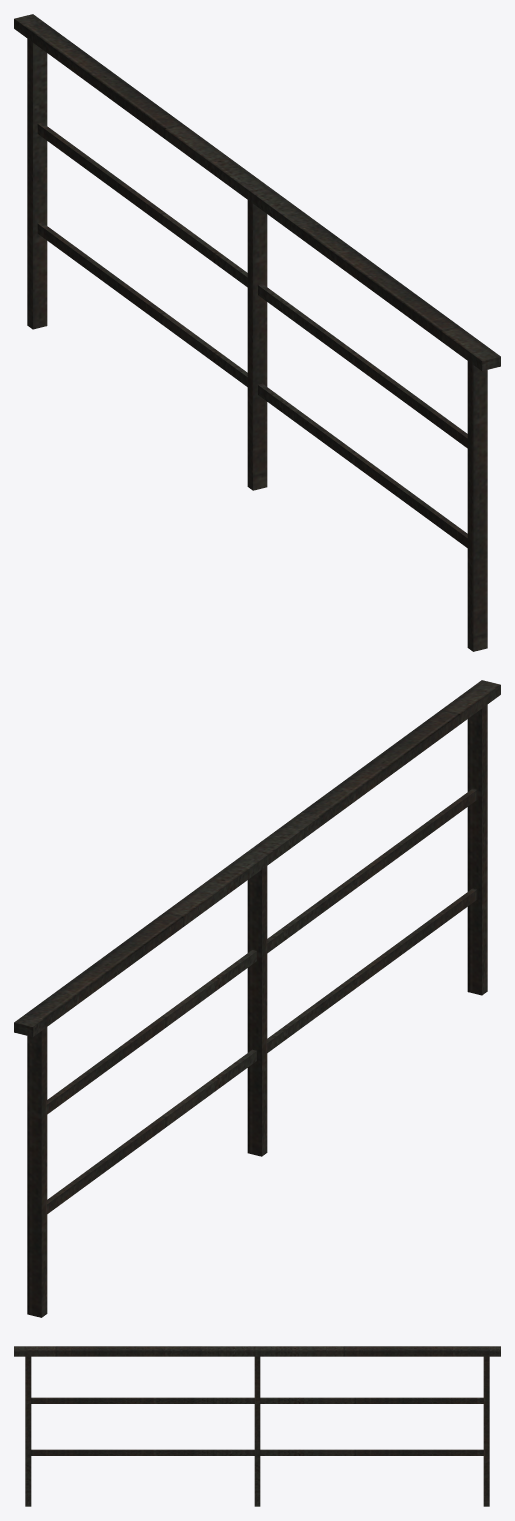
Rendered from platform_b_handrail_1.obj.
3 renders of one model, top to bottom at view 1: azimuth 30°, elevation 25°; view 2: azimuth 150°, elevation 25°; view 3: azimuth 270°, elevation 25°, orthographic. The views are drawn at different scales.
Visible parts, largest first — view 1: platform_b_handrail_1; view 2: platform_b_handrail_1; view 3: platform_b_handrail_1.
Boxes of the visible parts, left/top/right/bottom form: platform_b_handrail_1: left=14, top=14, right=500, bottom=651; platform_b_handrail_1: left=14, top=680, right=500, bottom=1317; platform_b_handrail_1: left=14, top=1346, right=500, bottom=1506.
Bounding box in the file's own units: 0.08 × 1.2 × 3.4.
